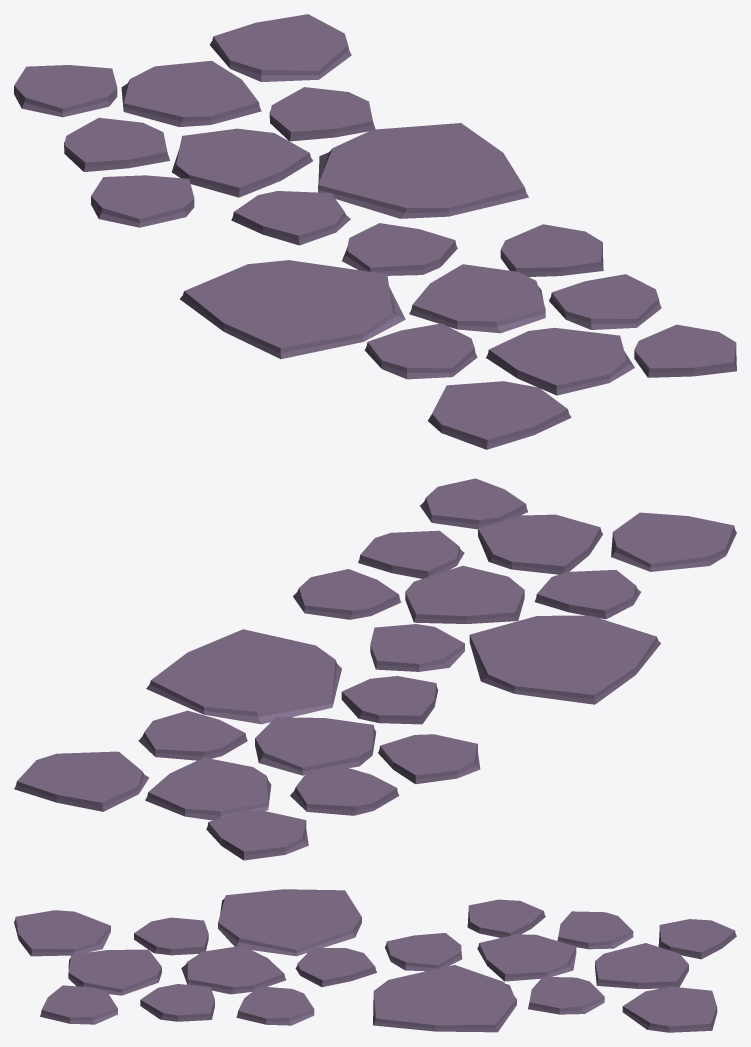
The model's file is Path 1.obj.
The picture shows the model from 3 angles, top to bottom: view 1: azimuth 30°, elevation 25°; view 2: azimuth 150°, elevation 25°; view 3: azimuth 270°, elevation 25°; orthographic projection. The views are drawn at different scales.
Visible parts, largest first — view 1: Path_Cube.013; view 2: Path_Cube.013; view 3: Path_Cube.013.
Part boxes in pixels (x1,y1,x2,y2): Path_Cube.013: (14, 14, 736, 449); Path_Cube.013: (14, 478, 736, 860); Path_Cube.013: (14, 889, 736, 1032).
Bounding box in the file's own units: 8.65 × 0.201 × 19.34.
